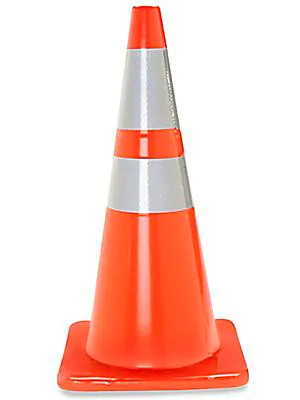cones: (46, 3, 251, 395)
